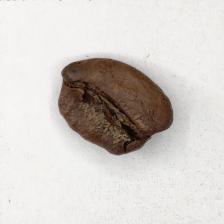NG: (111, 102, 173, 155)
